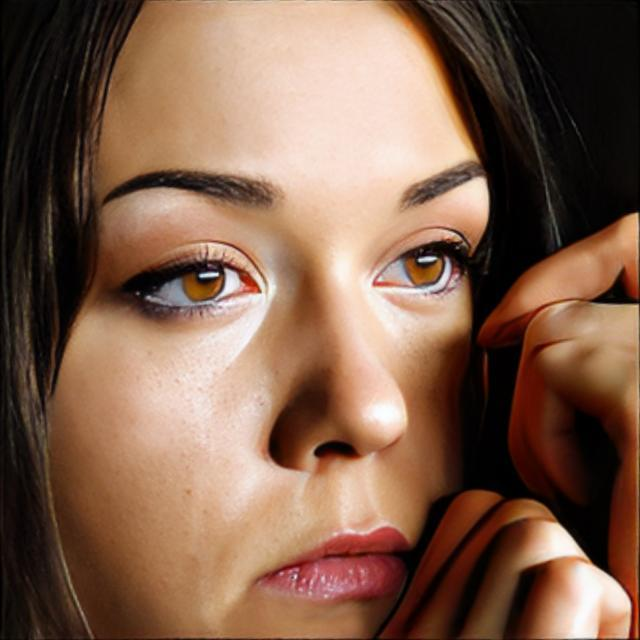sad: (44, 0, 492, 640)
